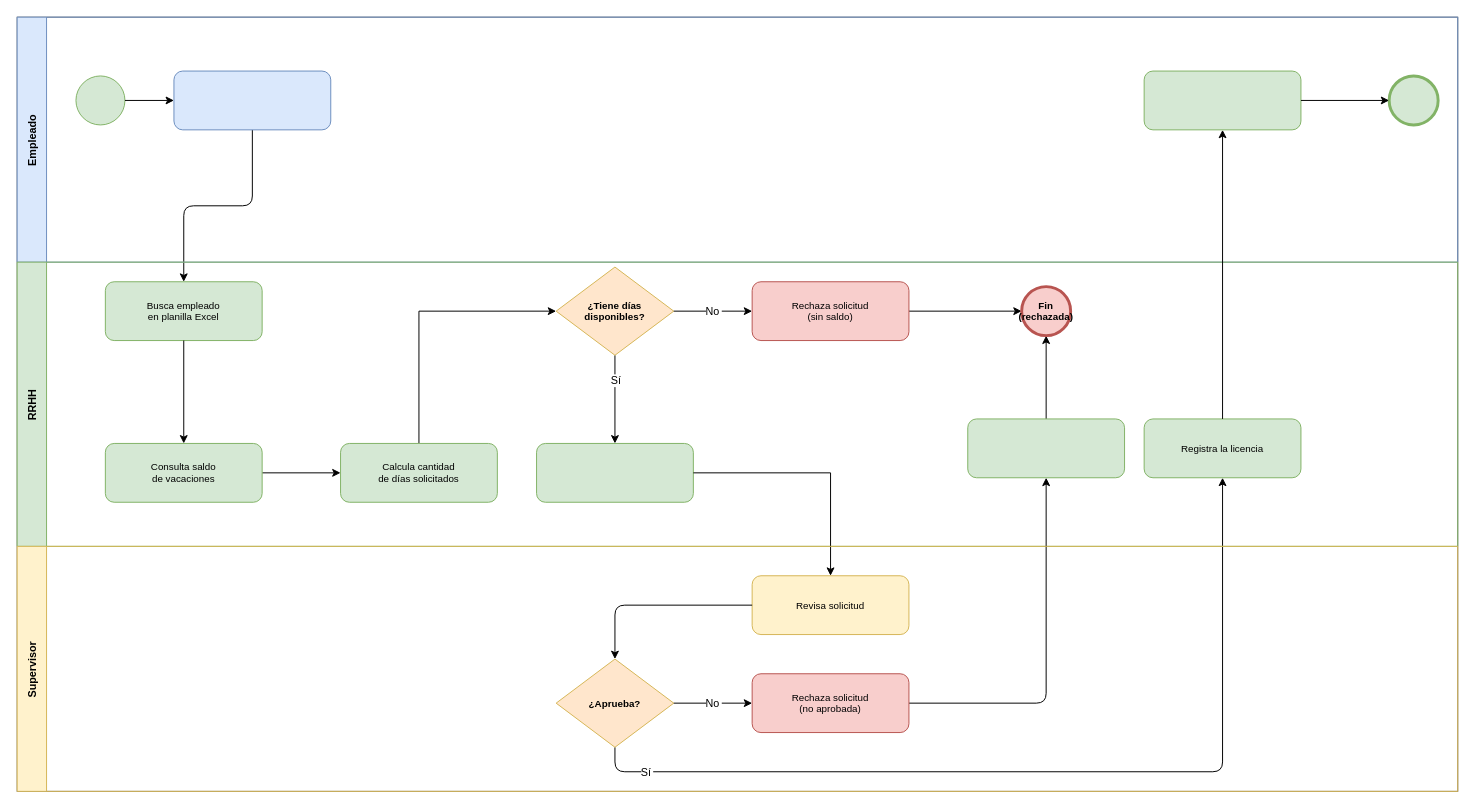
Some shapes in this 1475 by 809 pixel diagram are drawn without their labels. The centre of each missing label's shape, as x and y in pixels:
"Completa formulario de solicitud de Vacaciones" goes at pixel 252 100.
"Envía solicitud al supervisor" goes at pixel 614 472.
"Fin (aprobada)" goes at pixel 1413 100.
"Informa del rechazo al empleado" goes at pixel 1046 448.
"Informa resultado al empleado" goes at pixel 1222 100.
"Inicio" goes at pixel 100 100.
